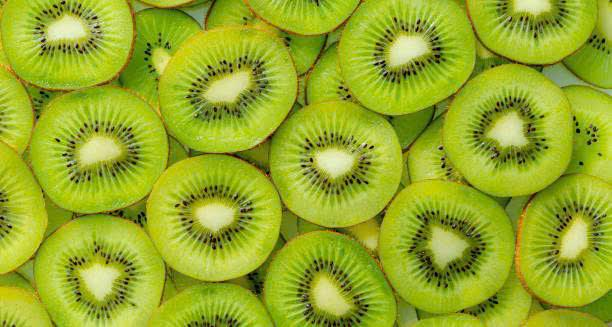kiwi: (268, 99, 406, 228), (160, 23, 299, 150), (438, 62, 572, 193), (380, 181, 514, 312), (31, 90, 169, 212), (150, 154, 277, 280), (340, 1, 477, 107), (35, 215, 157, 327), (265, 225, 392, 327), (518, 173, 612, 305), (2, 2, 136, 93), (469, 4, 603, 66), (156, 282, 270, 327)
